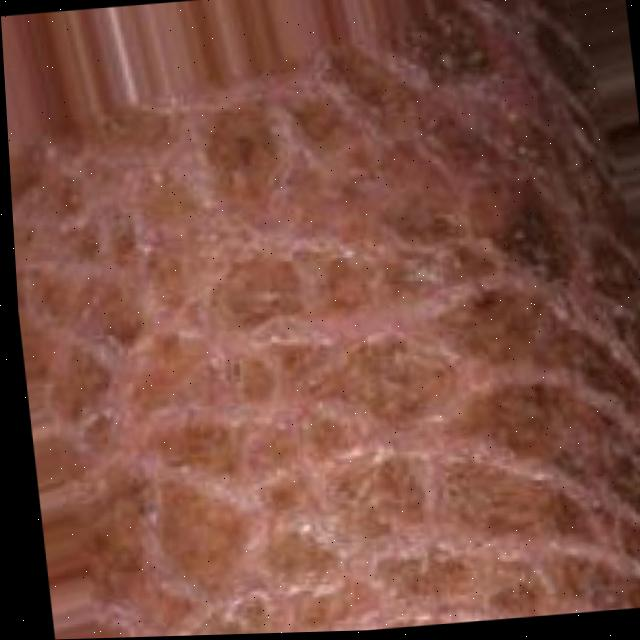Eczema: (58, 21, 618, 638)
